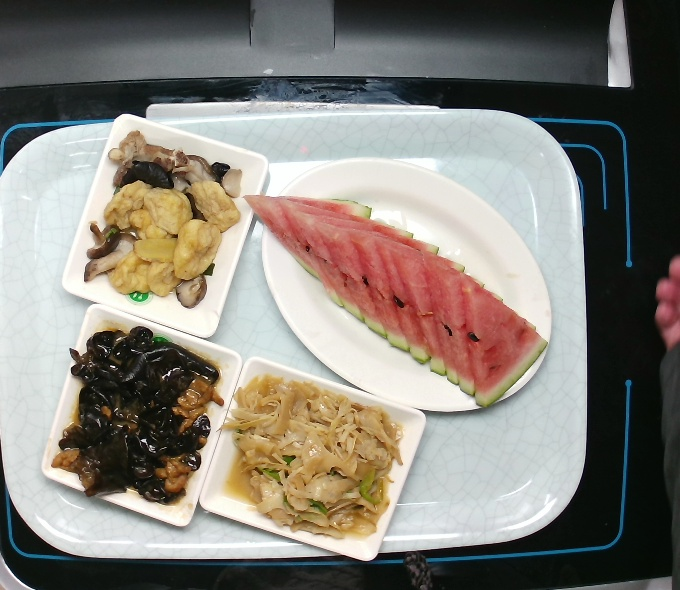wcq-LuSun: (222, 373, 400, 544)
wcq-MuErChaoRou: (44, 323, 229, 518)
wcq-XiGua: (242, 180, 576, 411)
wcq-YouPaoPaiGu: (78, 135, 242, 309)
